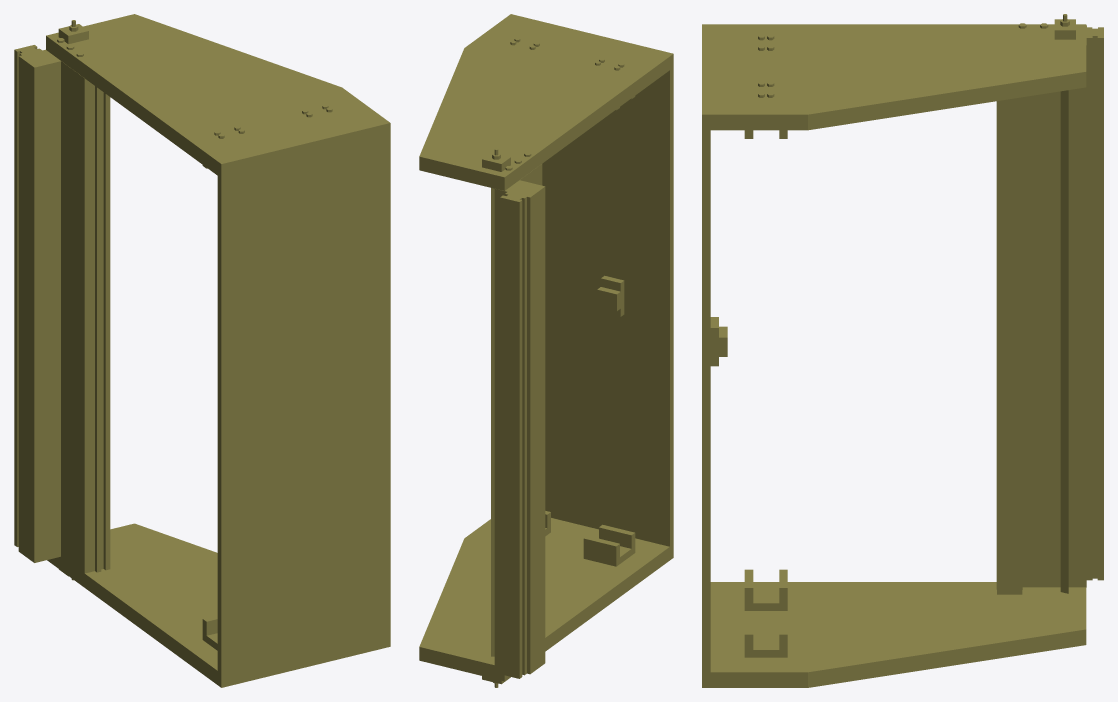
Rendered from Arm1_LOW_POLY.dae.
3 views of the same model, side by side, from view 1: azimuth 30°, elevation 25°; view 2: azimuth 150°, elevation 25°; view 3: azimuth 270°, elevation 25° (orthographic). The views are drawn at different scales.
Parts seen in each view (by area): view 1: Plane; view 2: Plane; view 3: Plane.
Part boxes in pixels (bbox=[...]): Plane: bbox=[14, 14, 390, 687]; Plane: bbox=[419, 14, 673, 687]; Plane: bbox=[702, 14, 1103, 687].
Bounding box in the file's own units: 0.8693 × 1.41 × 2.37.
